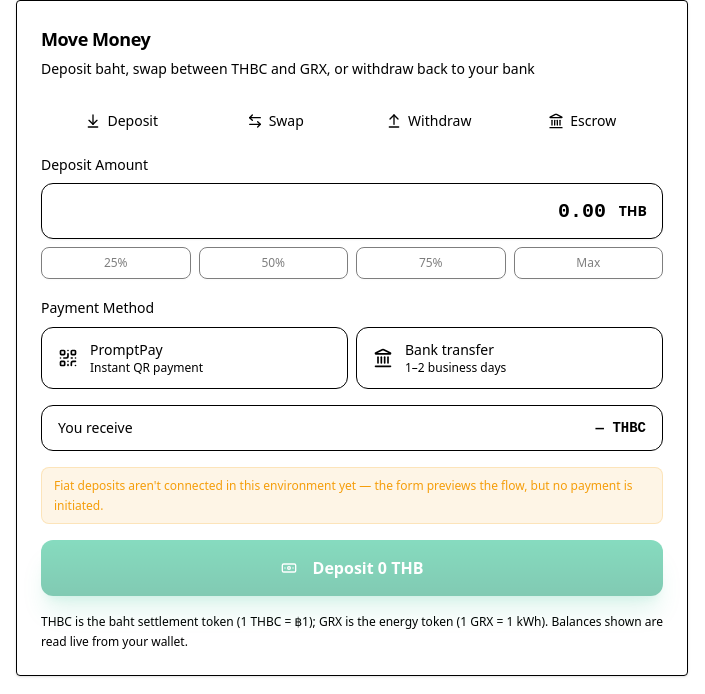
WalletActions › keeps the fiat flows gated while their backends are not connected
expect the button with test id "fiat-deposit-submit" is disabled: met, box x1=41 y1=540 x2=663 y2=596
Press the mouse on the tab with test id "fiat-withdraw-tab" at (429,121), box x1=352 y1=107 x2=506 y2=135
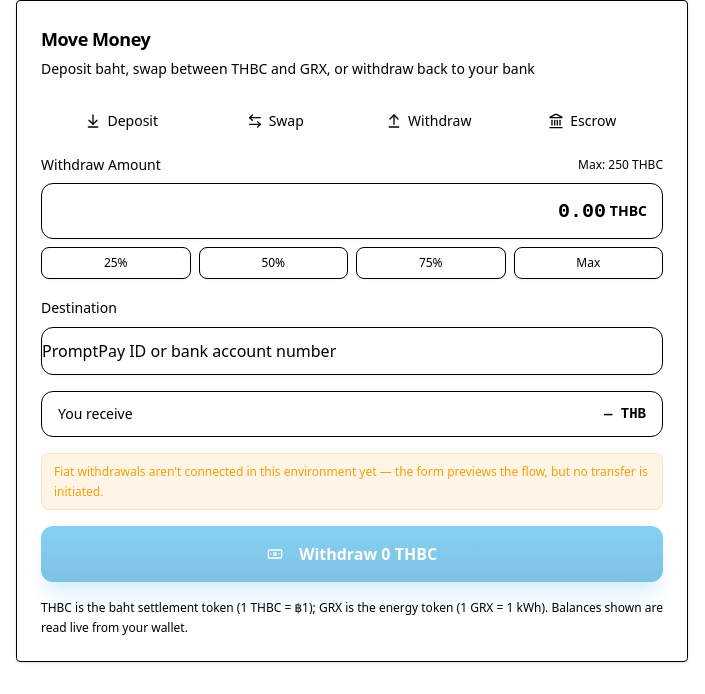
expect the button with test id "fiat-withdraw-submit" is disabled: met, box x1=41 y1=526 x2=663 y2=582
